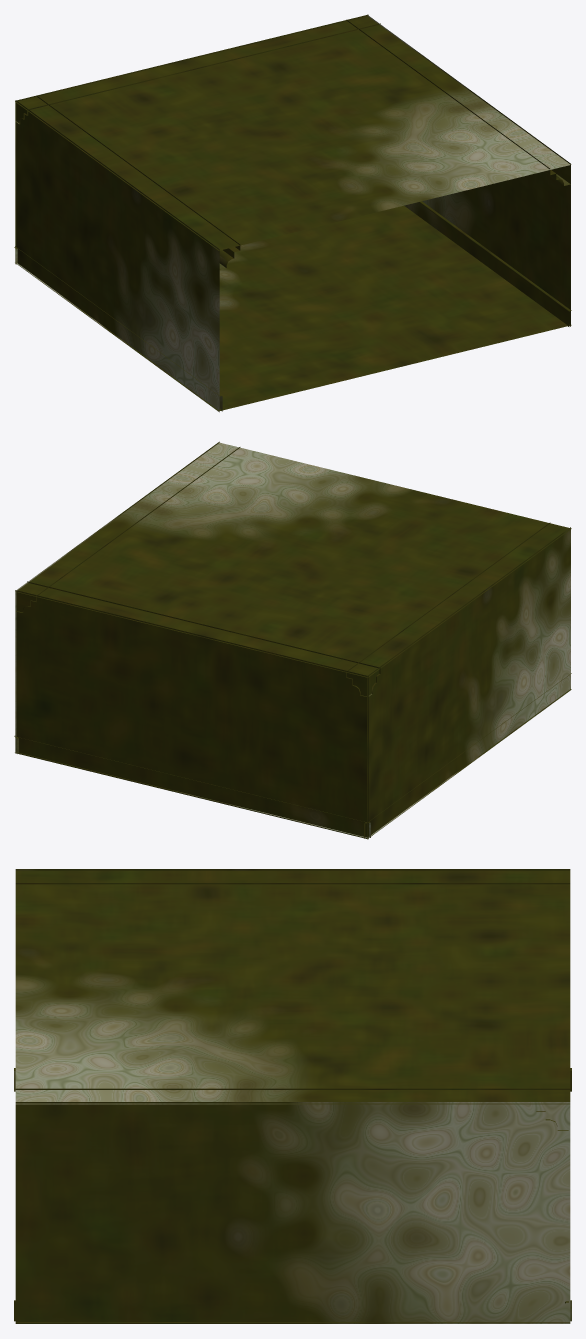
Rendered from Room.obj.
3 renders of one model, top to bottom at view 1: azimuth 30°, elevation 25°; view 2: azimuth 150°, elevation 25°; view 3: azimuth 270°, elevation 25°, orthographic. The views are drawn at different scales.
Parts seen in each view (by area): view 1: Room; view 2: Room; view 3: Room.
Part boxes in pixels (x1=…): Room: x1=14, y1=14, x2=571, y2=412; Room: x1=14, y1=441, x2=571, y2=839; Room: x1=14, y1=869, x2=571, y2=1323.
Size of the model in its own units: 22.47 by 9.86 by 22.47.
